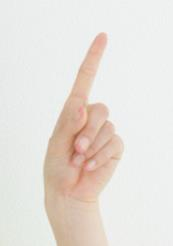up: (41, 30, 127, 204)
